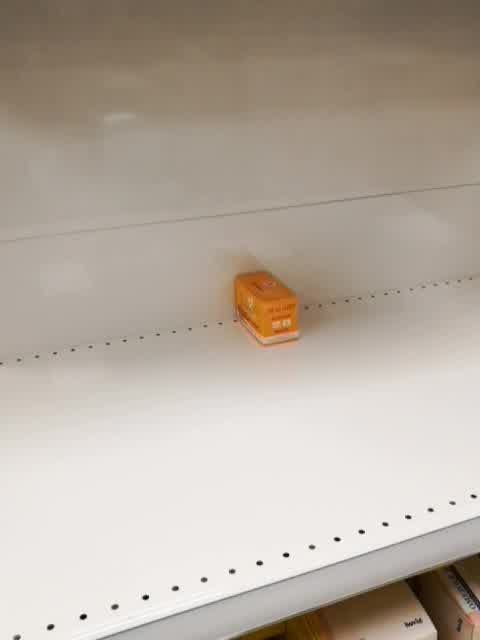jasminetea: (233, 269, 300, 348)
